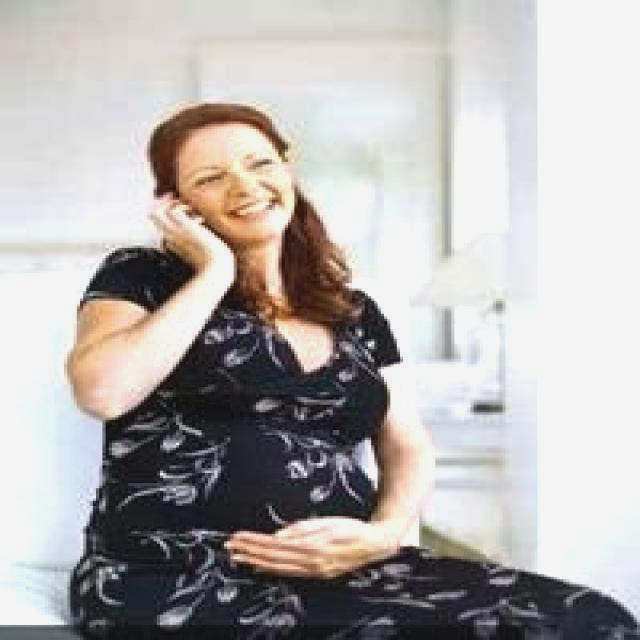no_vest: (73, 246, 404, 619)
